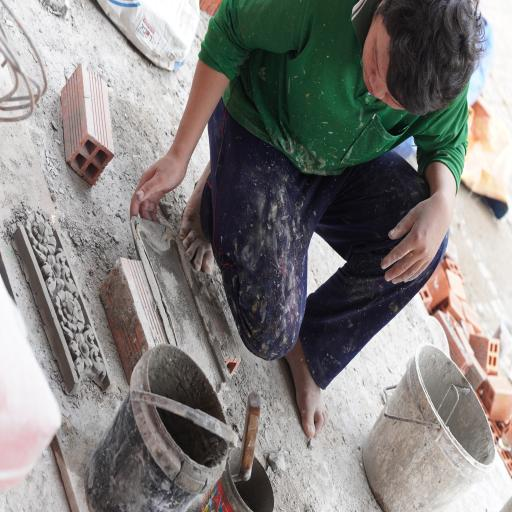hoa: (50, 281, 86, 336), (23, 208, 57, 259)
la: (54, 241, 86, 303), (59, 324, 87, 382), (84, 323, 108, 384), (30, 244, 58, 294)
